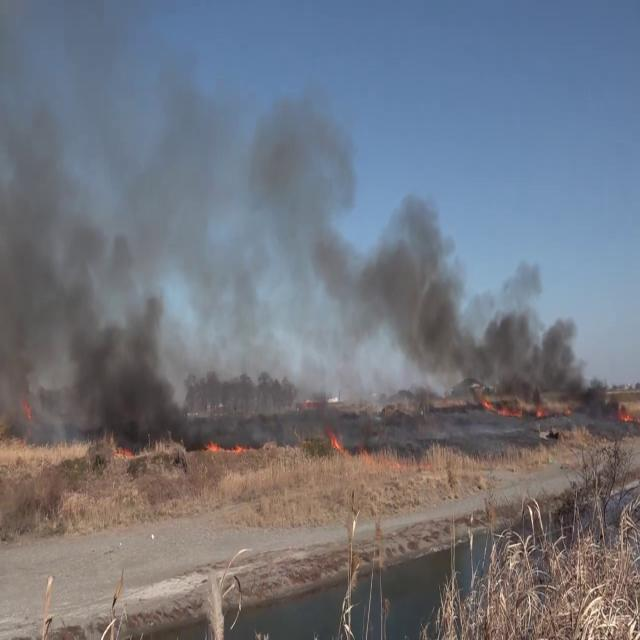Smoke: (0, 8, 343, 434), (327, 198, 595, 412)
